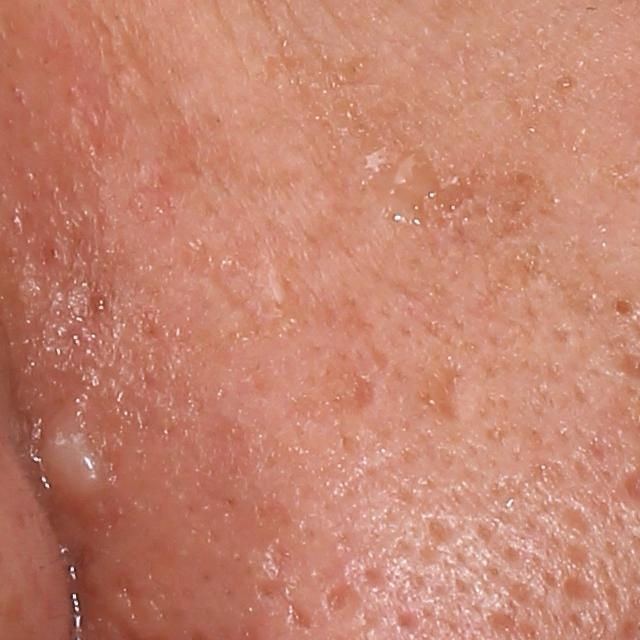atrophic_scar: (499, 166, 563, 241), (418, 356, 468, 424), (426, 167, 485, 221), (317, 584, 360, 622), (561, 576, 600, 606), (559, 506, 592, 541), (348, 372, 376, 413), (286, 600, 310, 633)
pustule: (36, 411, 121, 516)
